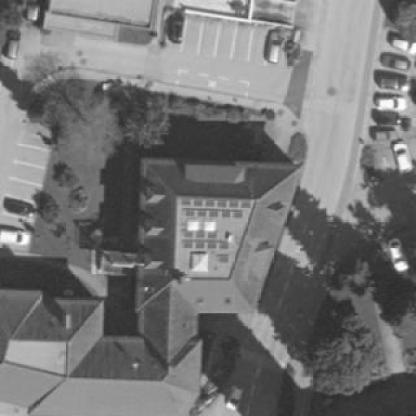solar-pv-panel: (182, 200, 251, 208), (184, 240, 229, 250), (186, 211, 243, 218), (184, 232, 216, 239), (219, 255, 229, 262)
